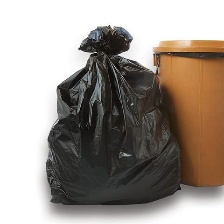plastic_bag: (41, 20, 190, 209)
